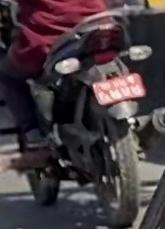license-plate: (89, 71, 149, 103)
